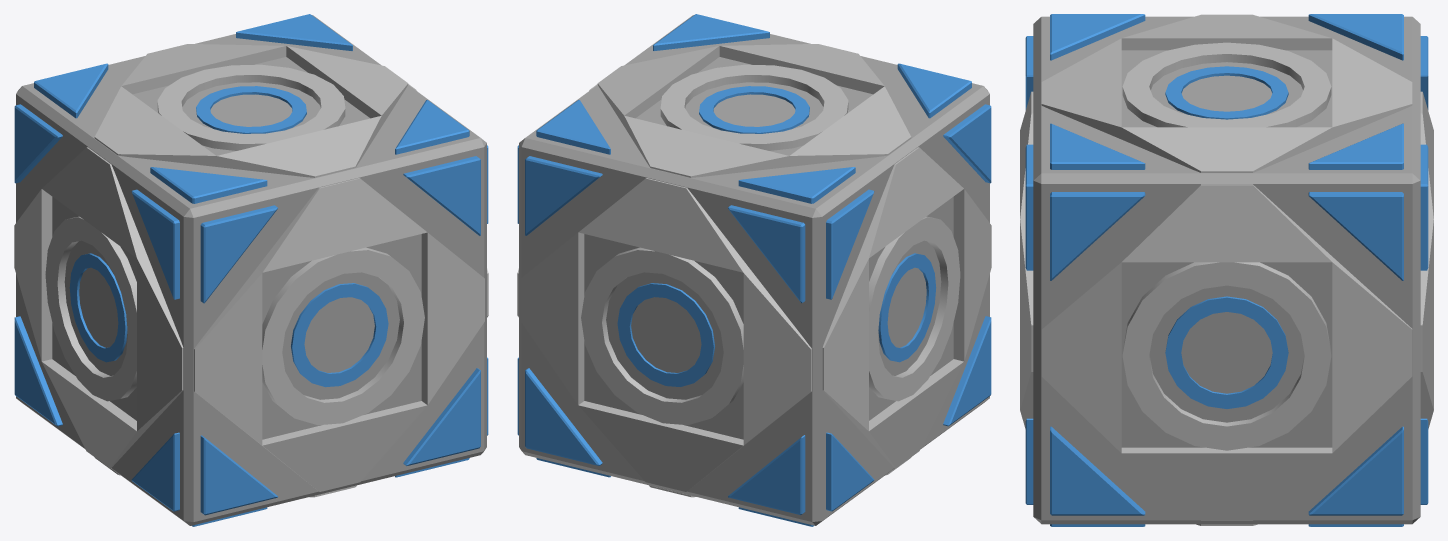
The picture shows the model from 3 angles, left to right: view 1: azimuth 30°, elevation 25°; view 2: azimuth 150°, elevation 25°; view 3: azimuth 270°, elevation 25°; orthographic projection. The views are drawn at different scales.
Visible parts, largest first — view 1: polySurface40, pCube1, polySurface41, polySurface15; view 2: polySurface40, pCube1, polySurface41, polySurface15; view 3: polySurface40, pCube1, polySurface41, polySurface15.
Boxes of the visible parts, x1,y1,x2,y2 form: polySurface40: (14,44,488,497); pCube1: (16,15,486,525); polySurface41: (14,14,488,526); polySurface15: (69,86,388,387); polySurface40: (517,44,991,497); pCube1: (519,15,989,525); polySurface41: (517,14,991,526); polySurface15: (617,86,936,386); polySurface40: (1020,14,1433,525); pCube1: (1033,16,1420,524); polySurface41: (1025,14,1428,526); polySurface15: (1165,66,1288,408).
Bounding box in the file's own units: 4.28 × 4.28 × 4.28.
